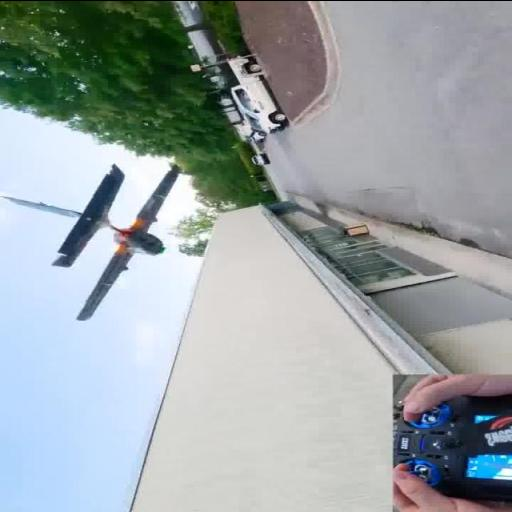uav: (4, 157, 182, 327)
